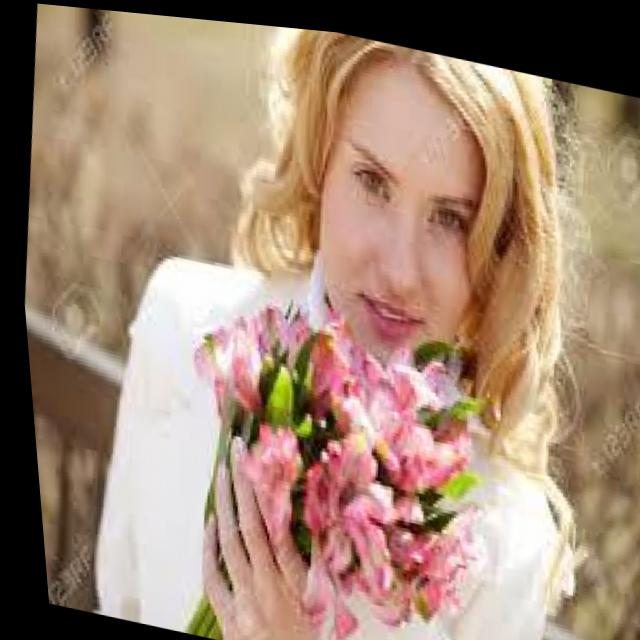Flower: (319, 326, 451, 443), (177, 307, 276, 413), (327, 472, 404, 605), (238, 405, 303, 489)
